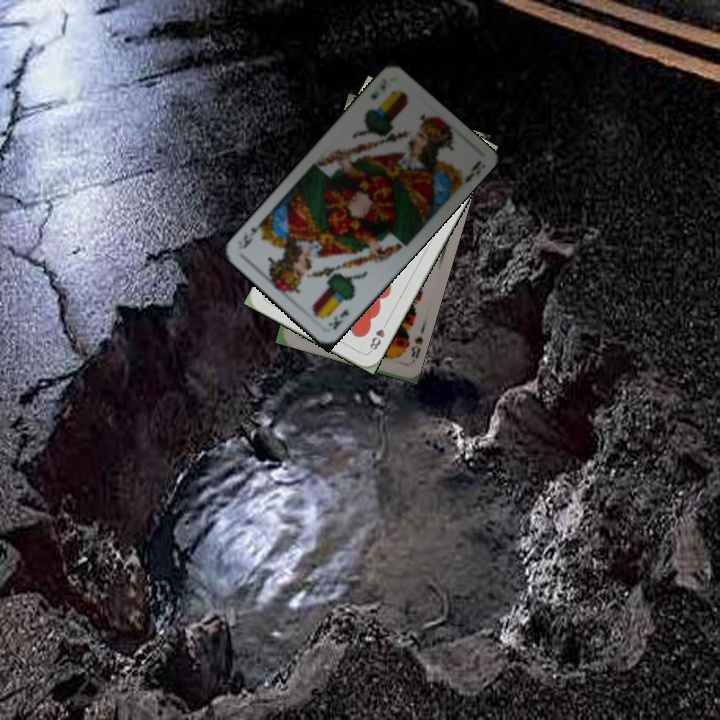EK: (324, 303, 352, 332), (366, 74, 390, 102)
H8: (365, 317, 390, 355)
S8: (407, 332, 426, 366)
